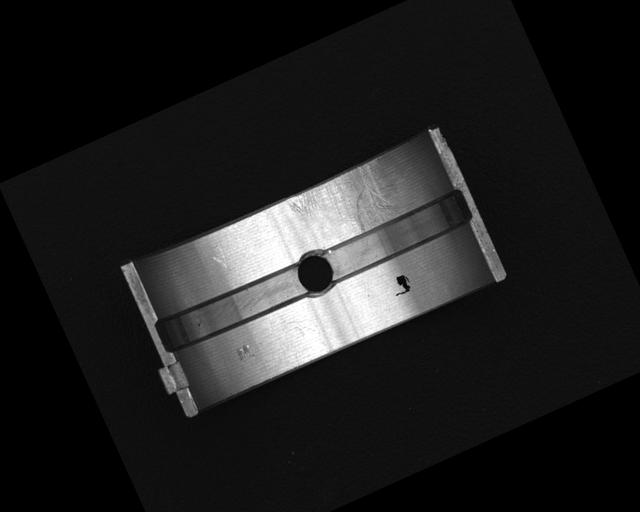blot: (389, 272, 414, 297)
bruise: (233, 343, 253, 362)
gap: (153, 260, 310, 357), (316, 188, 473, 285)
hole: (291, 243, 342, 300)
nick: (212, 248, 244, 290)
scratch: (288, 156, 406, 253)
